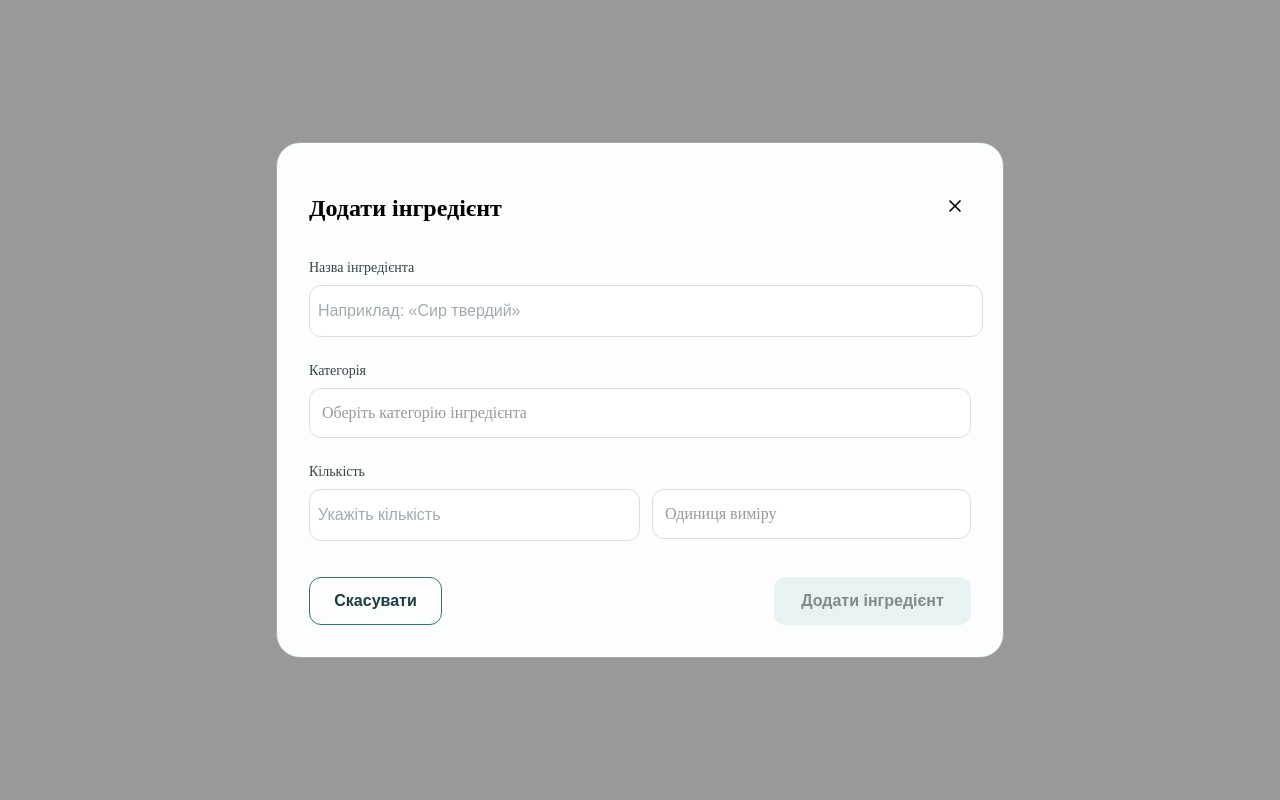
it: AddIngredientModal › показує автокомпліт при введенні назви
In the field with placeholder "Наприклад: «Сир твердий»": [646, 311] box [309,285,983,337], type "Сир"
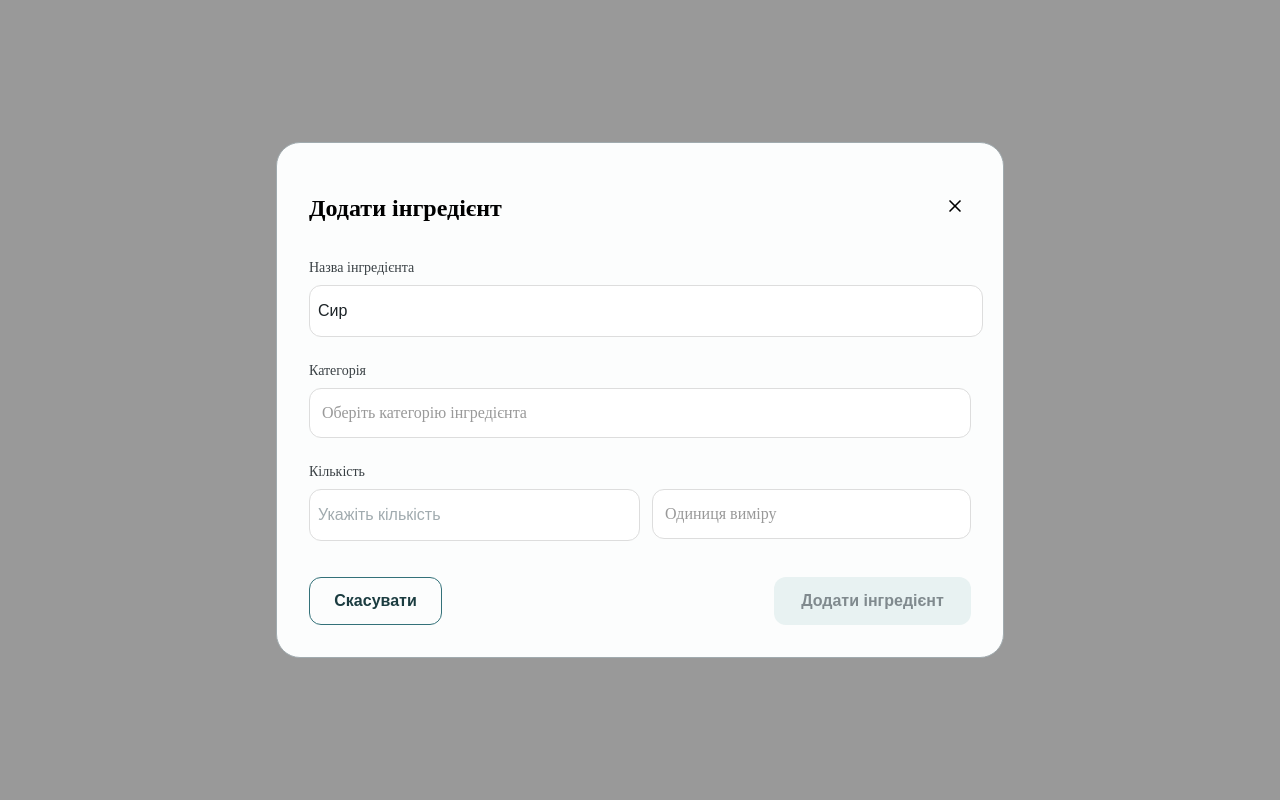
Focus the field with placeholder "Наприклад: «Сир твердий»": [646, 311] box [309,285,983,337]
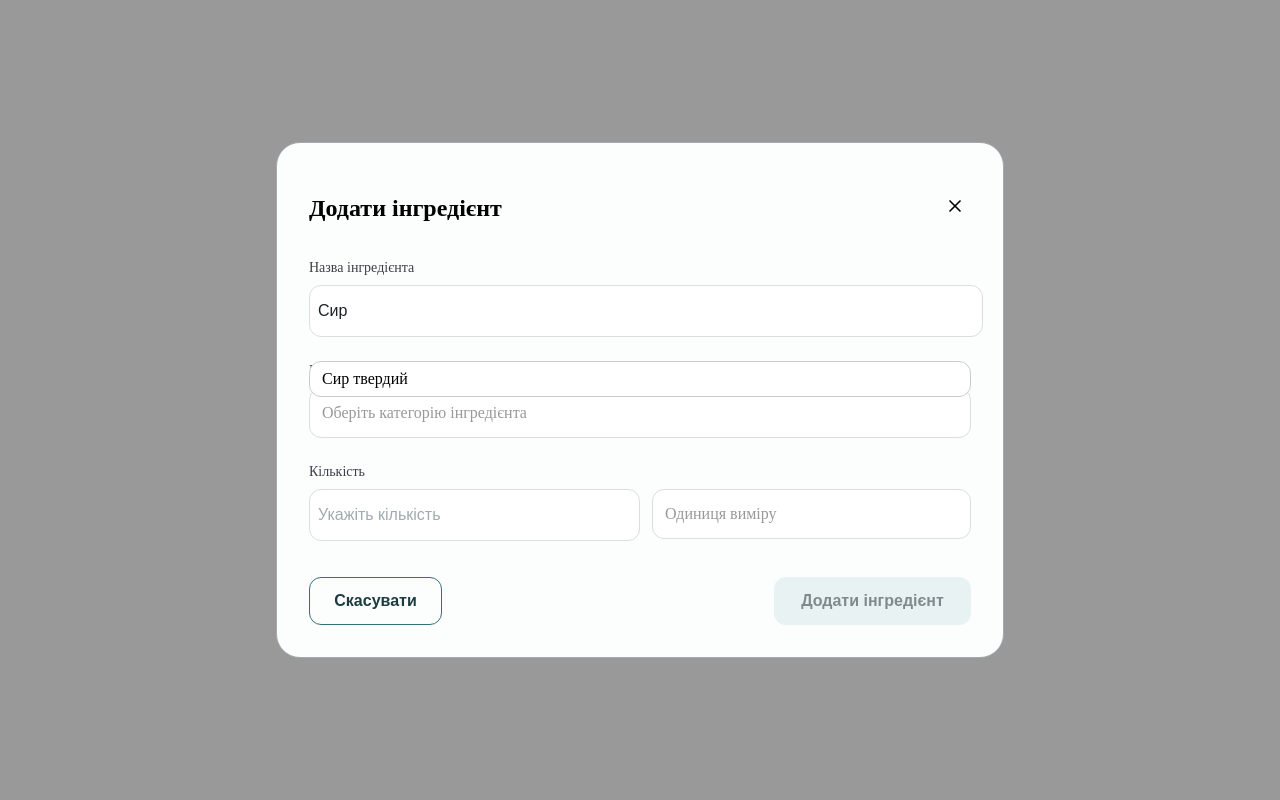
Expected: the list item "Сир твердий" is shown, [322,370,408,387]
